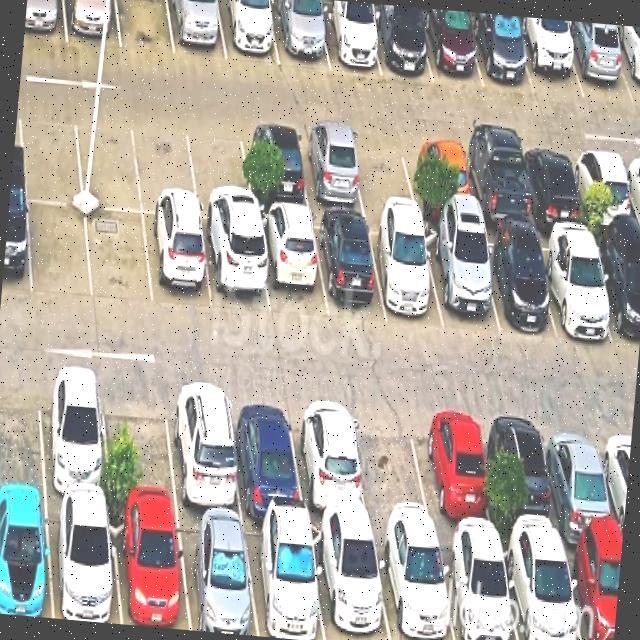empty: (348, 400, 435, 532), (101, 375, 177, 510), (185, 119, 253, 222), (74, 109, 141, 212), (133, 115, 198, 216), (86, 208, 152, 307), (18, 103, 82, 204), (28, 202, 92, 299), (0, 366, 44, 495), (349, 131, 417, 213), (116, 0, 174, 54)
occupied: (415, 403, 495, 538), (289, 395, 370, 527), (542, 412, 620, 544), (166, 381, 242, 516), (175, 513, 258, 636), (227, 388, 304, 518), (243, 519, 324, 640), (38, 368, 110, 503), (110, 507, 189, 630), (489, 408, 562, 541), (310, 523, 390, 640), (47, 500, 121, 624), (535, 229, 614, 340), (373, 532, 454, 640), (437, 534, 518, 640), (422, 226, 500, 333), (367, 219, 443, 328), (500, 538, 581, 640), (476, 229, 555, 332), (312, 214, 386, 319), (256, 210, 327, 318), (143, 214, 212, 309), (200, 221, 269, 315), (459, 140, 532, 227), (0, 497, 52, 618), (562, 541, 622, 640), (560, 21, 633, 102), (240, 124, 309, 209), (405, 136, 474, 220), (591, 232, 640, 348), (297, 128, 365, 211), (514, 18, 584, 98), (519, 144, 585, 226), (570, 146, 635, 229), (469, 12, 534, 92), (420, 8, 483, 86), (367, 7, 432, 81), (317, 2, 380, 75), (270, 0, 329, 68), (217, 0, 279, 64), (167, 0, 226, 60), (1, 195, 30, 295), (63, 0, 120, 47), (611, 27, 640, 102), (23, 0, 67, 42)
